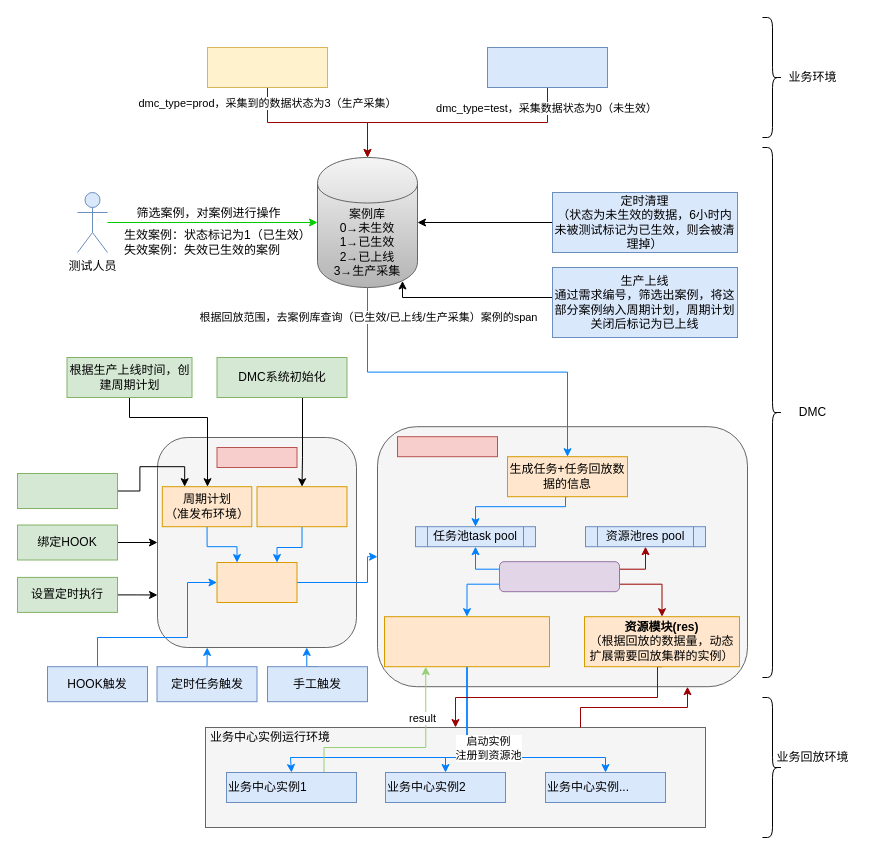
The diagram is 875 pixels wide and 855 high, and some of its shapes have lost their labels. The shapes that lost their labels are listed below. From the top down, each one's centre as x and y in pixels, then its label:
[267,67]: 生产采集 (dmc_type=prod)
[547,67]: 测试采集 (dmc_type=test)
[256,457]: 计划模块
[447,446]: 调度模块
[67,490]: 根据CMP绑定上线需求编号
[301,506]: 长期计划 （测试环境）
[256,582]: 任务
[559,576]: 调度管理
[467,641]: 执行模块（exec） （将 span从案例库取出 后下发到对应集群的实例进行回放）
